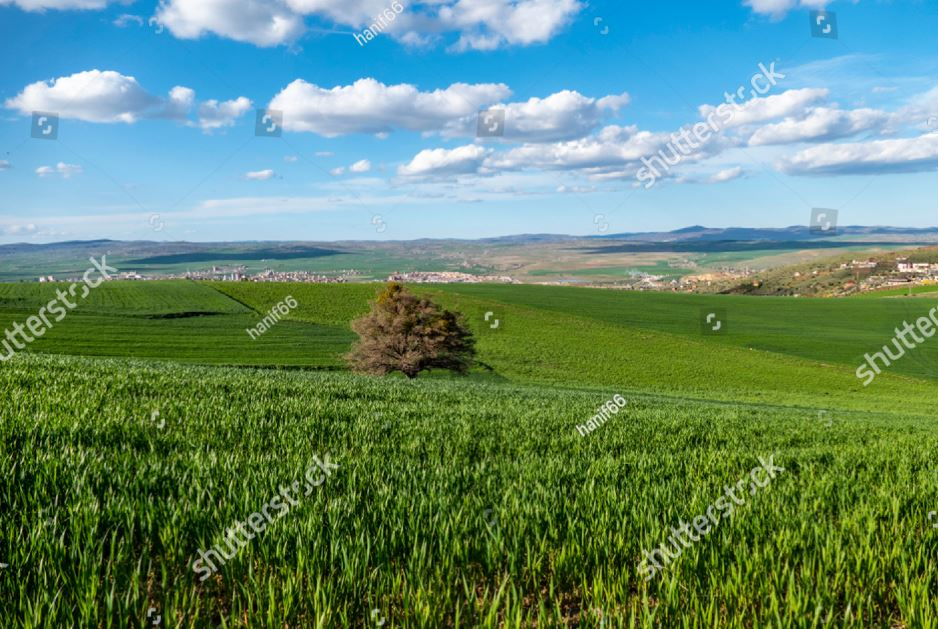Wheat: (369, 441, 834, 611)
